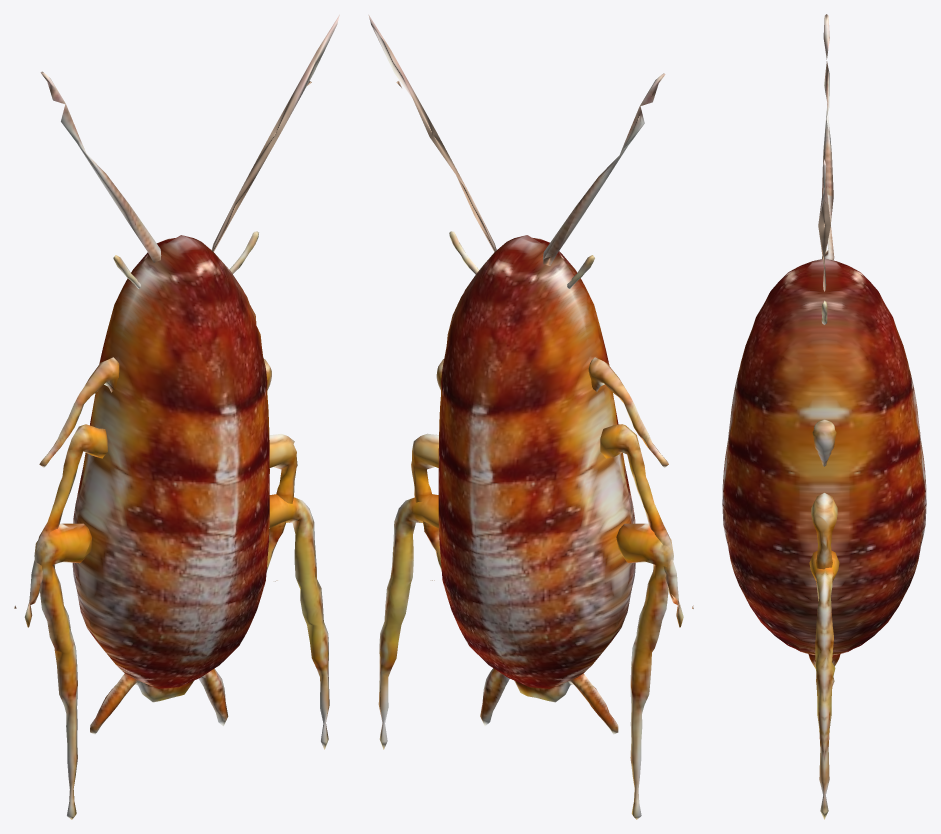
File: Nymph.FBX
The picture shows the model from 3 angles, left to right: view 1: azimuth 30°, elevation 25°; view 2: azimuth 150°, elevation 25°; view 3: azimuth 270°, elevation 25°; orthographic projection. The views are drawn at different scales.
Parts seen in each view (by area): view 1: model_662178898994; view 2: model_662178898994; view 3: model_662178898994.
Boxes of the visible parts, left/top/right/bottom form: model_662178898994: left=14, top=14, right=339, bottom=819; model_662178898994: left=368, top=14, right=693, bottom=819; model_662178898994: left=722, top=14, right=926, bottom=819.
Size of the model in its own units: 0.3084 by 0.6824 by 0.1837.
Materials: 1 (1 with a texture image).
